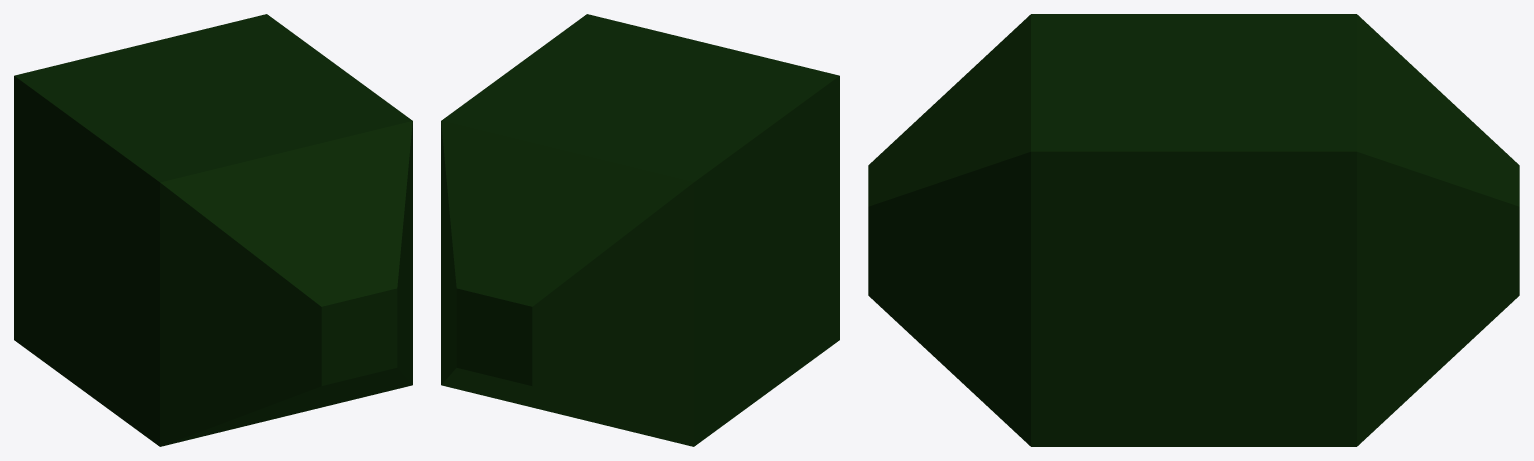
The model's file is TankTurret.obj.
3 views of the same model, side by side, from view 1: azimuth 30°, elevation 25°; view 2: azimuth 150°, elevation 25°; view 3: azimuth 270°, elevation 25° (orthographic). The views are drawn at different scales.
Visible parts, largest first — view 1: TurretTank; view 2: TurretTank; view 3: TurretTank.
Part boxes in pixels (bbox=[...]): TurretTank: bbox=[14, 14, 412, 446]; TurretTank: bbox=[441, 14, 839, 446]; TurretTank: bbox=[868, 14, 1519, 446].
Bounding box in the file's own units: 0.6 × 0.6 × 1.2.
